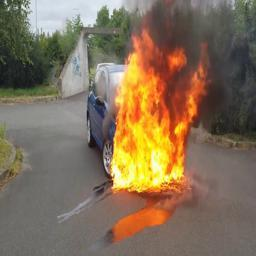fire: (113, 26, 209, 190)
